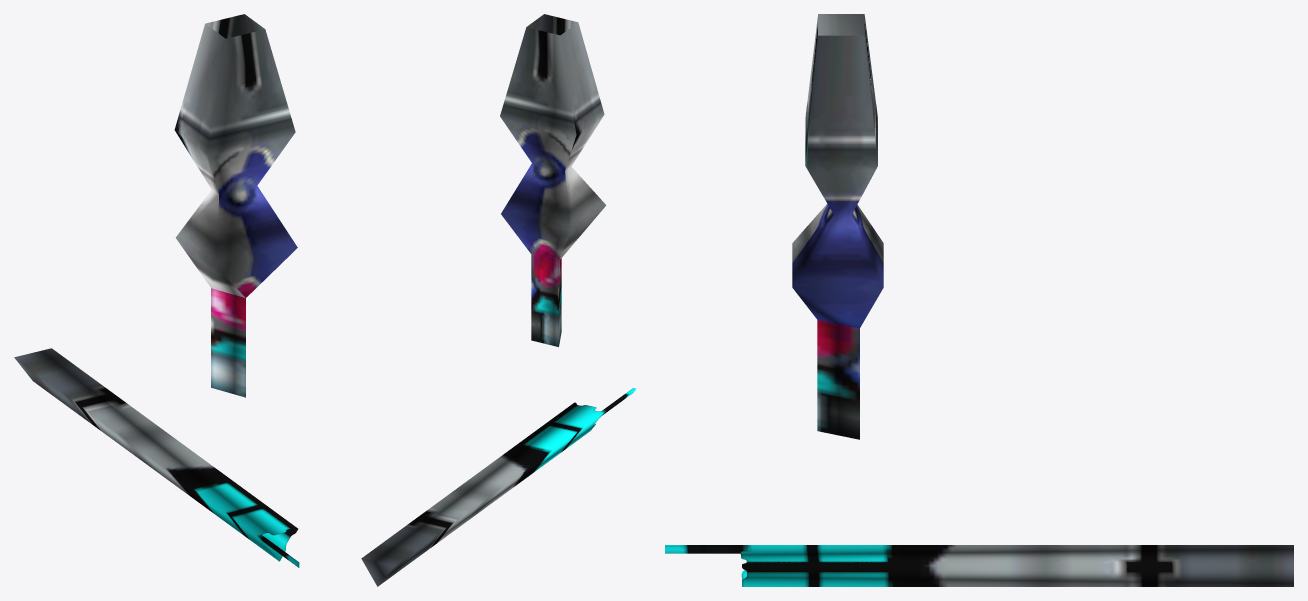
The picture shows the model from 3 angles, left to right: view 1: azimuth 30°, elevation 25°; view 2: azimuth 150°, elevation 25°; view 3: azimuth 270°, elevation 25°; orthographic projection. The views are drawn at different scales.
Visible parts, largest first — view 1: debug_2, debug_1; view 2: debug_2, debug_1; view 3: debug_2, debug_1.
Boxes of the visible parts, x1=… form: debug_2: x1=174, y1=14, x2=297, y2=397; debug_1: x1=14, y1=348, x2=299, y2=567; debug_2: x1=500, y1=14, x2=606, y2=346; debug_1: x1=361, y1=388, x2=636, y2=586; debug_2: x1=792, y1=14, x2=883, y2=439; debug_1: x1=665, y1=545, x2=1293, y2=586.
Size of the model in its own units: 1.44 by 7.81 by 7.92.
1 material, 1 textured.
